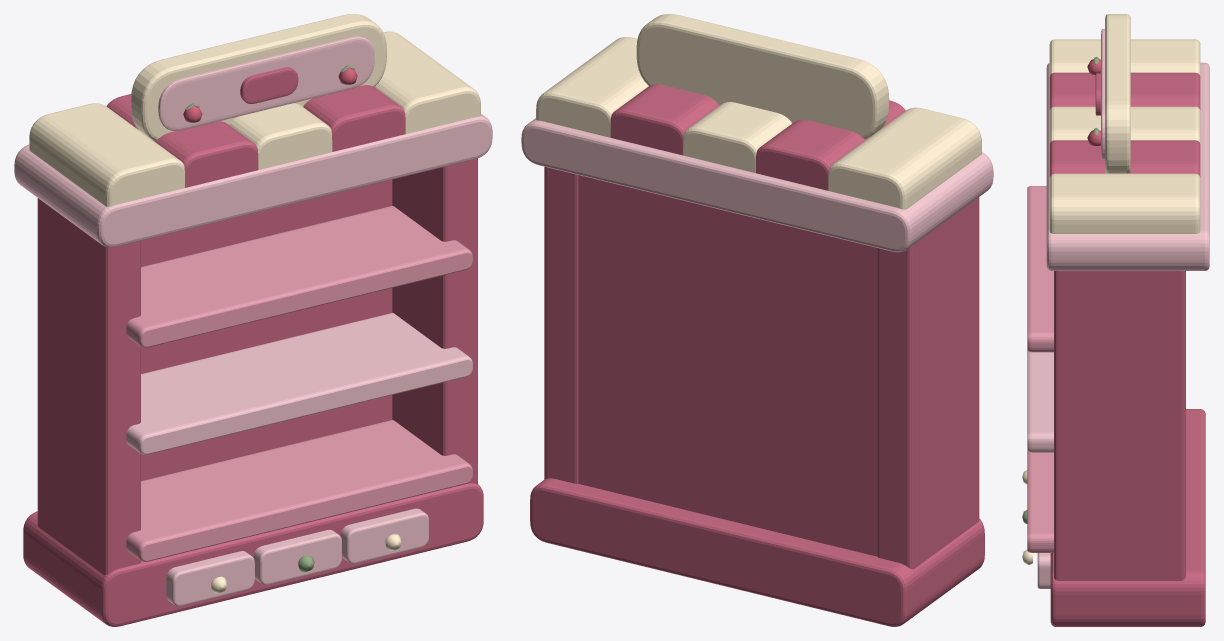
Rendered from display-cabinet.glb.
The picture shows the model from 3 angles, left to right: view 1: azimuth 30°, elevation 25°; view 2: azimuth 150°, elevation 25°; view 3: azimuth 270°, elevation 25°; orthographic projection. The views are drawn at different scales.
Parts seen in each view (by area): view 1: LeftFrame, Shelf3, Shelf2, Shelf1, Crown, CabinetBack, RightFrame, Plinth, AwningScallop1, BakerySignInset, BakerySign, AwningScallop5 (+7 smaller); view 2: CabinetBack, LeftFrame, Plinth, Crown, BakerySign, RightFrame, AwningScallop1, AwningScallop5, AwningScallop2, AwningScallop4, AwningScallop3; view 3: RightFrame, Plinth, AwningScallop5, Crown, AwningScallop4, BakerySign, AwningScallop3, AwningScallop2, AwningScallop1, Shelf3, Shelf1, Shelf2 (+2 smaller).
Part boxes in pixels (x1=…): LeftFrame: x1=37, y1=198, x2=140, y2=574; Shelf3: x1=126, y1=206, x2=472, y2=347; Shelf2: x1=126, y1=313, x2=472, y2=454; Shelf1: x1=126, y1=420, x2=472, y2=561; Crown: x1=14, y1=114, x2=492, y2=247; CabinetBack: x1=141, y1=179, x2=392, y2=481; RightFrame: x1=392, y1=158, x2=477, y2=486; Plinth: x1=23, y1=483, x2=483, y2=626; AwningScallop1: x1=29, y1=103, x2=184, y2=206; BakerySignInset: x1=158, y1=36, x2=374, y2=130; BakerySign: x1=131, y1=14, x2=386, y2=140; AwningScallop5: x1=375, y1=31, x2=480, y2=133; CabinetBack: x1=578, y1=175, x2=877, y2=556; LeftFrame: x1=877, y1=197, x2=979, y2=569; Plinth: x1=530, y1=478, x2=984, y2=626; Crown: x1=521, y1=118, x2=993, y2=252; BakerySign: x1=636, y1=14, x2=889, y2=138; RightFrame: x1=544, y1=166, x2=578, y2=483; AwningScallop1: x1=828, y1=107, x2=981, y2=209; AwningScallop5: x1=536, y1=37, x2=648, y2=137; AwningScallop2: x1=756, y1=100, x2=905, y2=190; AwningScallop4: x1=610, y1=84, x2=719, y2=155; AwningScallop3: x1=683, y1=102, x2=791, y2=173; RightFrame: x1=1054, y1=271, x2=1185, y2=580; Plinth: x1=1050, y1=409, x2=1205, y2=626; AwningScallop5: x1=1049, y1=173, x2=1200, y2=233; Crown: x1=1046, y1=62, x2=1209, y2=270; AwningScallop4: x1=1049, y1=140, x2=1200, y2=177; BakerySign: x1=1105, y1=14, x2=1130, y2=173; AwningScallop3: x1=1049, y1=106, x2=1200, y2=144; AwningScallop2: x1=1049, y1=72, x2=1200, y2=110; AwningScallop1: x1=1049, y1=39, x2=1200, y2=76; Shelf3: x1=1027, y1=186, x2=1053, y2=352; Shelf1: x1=1027, y1=451, x2=1053, y2=552; Shelf2: x1=1027, y1=350, x2=1053, y2=452.
Size of the model in its own units: 4.17 by 5.24 by 1.83.
